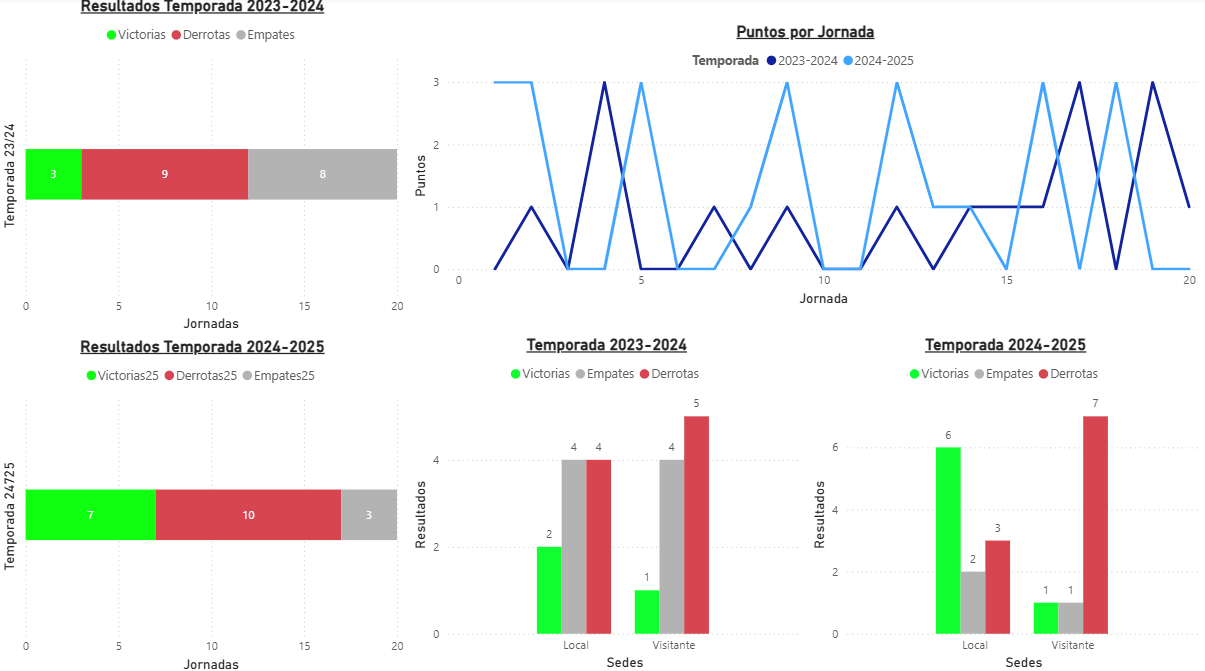

The dashboard page shown, as its layout file describes it:
{"tool":"powerbi","page":{"name":"Rendimiento General","canvas":[1280,720],"ordinal":0},"visuals":[{"type":"barChart","title":"Resultados Temporada 2023-2024","fields":{"Category":["CELTA 23-24.\"2023-24\""],"Y":["CELTA 23-24.Victorias","CELTA 23-24.Derrotas","CELTA 23-24.Empates"]},"box":[0,0,435.8,359.5],"z":0},{"type":"barChart","title":"Resultados Temporada 2024-2025","fields":{"Category":["CELTA 24-25.2024-25"],"Y":["CELTA 24-25.Victorias25","CELTA 24-25.Derrotas25","CELTA 24-25.Empates25"]},"box":[0,361.1,435.8,359.5],"z":1000},{"type":"lineChart","title":"Puntos por Jornada","fields":{"Category":["Anexar1.Jornada"],"Y":["Sum(Anexar1.Puntos Jornada)"],"Series":["Anexar1.Temporada"]},"box":[435.8,27,843,305.4],"z":2000},{"type":"clusteredColumnChart","title":"Temporada 2024-2025","fields":{"Category":["CELTA 24-25.Sedes"],"Y":["CELTA 24-25.Victorias25","CELTA 24-25.Empates25","CELTA 24-25.Derrotas25"]},"box":[858.9,359.5,421.5,359.5],"z":2001},{"type":"clusteredColumnChart","title":"Temporada 2023-2024","fields":{"Category":["CELTA 23-24.Sedes"],"Y":["CELTA 23-24.Victorias","CELTA 23-24.Empates","CELTA 23-24.Derrotas"]},"box":[435.8,359.5,421.5,359.5],"z":2002}]}

Visuals, with their boxes in screenshot pixels (x1, y1, x2, y2), scaled from the page's 1280x720 canvas onto the 1205x671 screenshot:
"Resultados Temporada 2023-2024" barChart: [0, 0, 410, 335]
"Resultados Temporada 2024-2025" barChart: [0, 337, 410, 670]
"Puntos por Jornada" lineChart: [410, 25, 1204, 310]
"Temporada 2024-2025" clusteredColumnChart: [809, 335, 1204, 670]
"Temporada 2023-2024" clusteredColumnChart: [410, 335, 807, 670]
